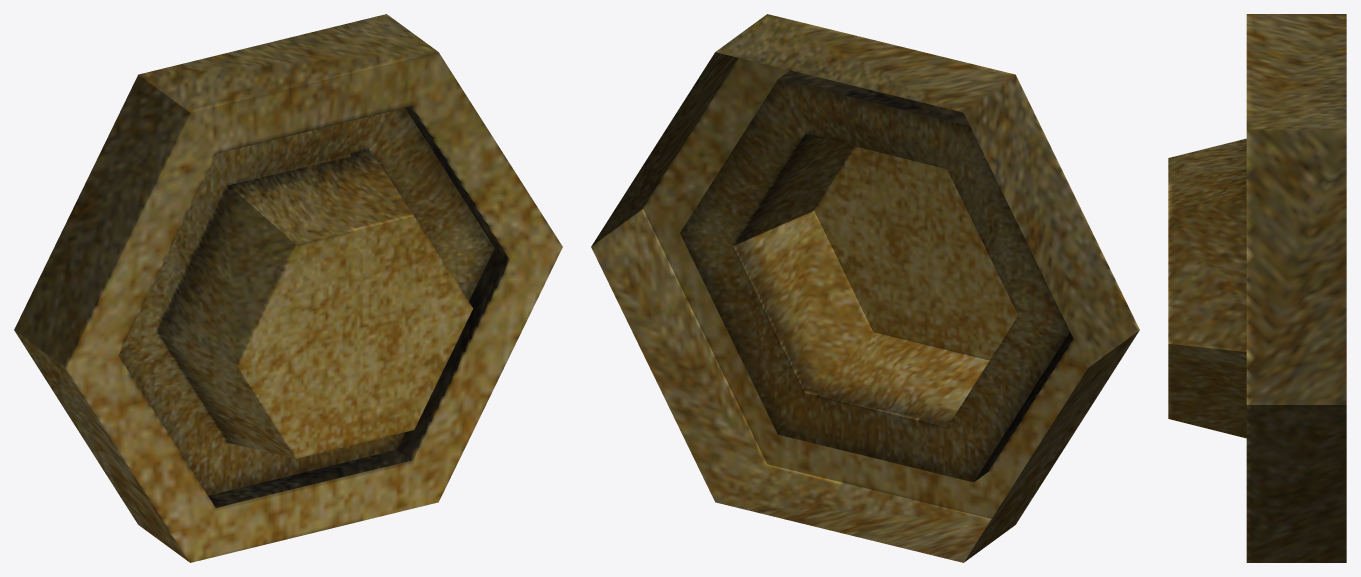
Rendered from DrawerKnob.fbx.
3 views of the same model, side by side, from view 1: azimuth 30°, elevation 25°; view 2: azimuth 150°, elevation 25°; view 3: azimuth 270°, elevation 25° (orthographic). The views are drawn at different scales.
Visible parts, largest first — view 1: polySurface223; view 2: polySurface223; view 3: polySurface223.
Boxes of the visible parts, box(x1,y1,x2,y2) form: polySurface223: box(14, 14, 562, 562); polySurface223: box(591, 14, 1139, 562); polySurface223: box(1168, 14, 1346, 562).
Bounding box in the file's own units: 0.3182 × 0.2755 × 0.103.
